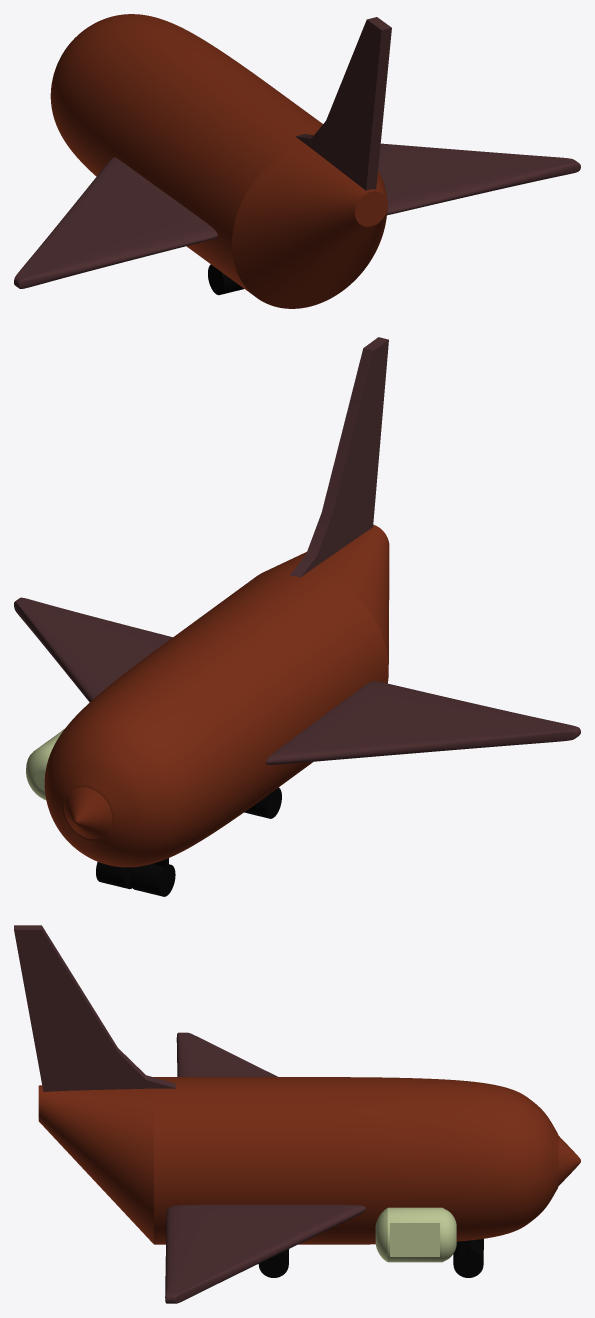
File: Airliner.fbx
3 renders of one model, top to bottom at view 1: azimuth 30°, elevation 25°; view 2: azimuth 150°, elevation 25°; view 3: azimuth 270°, elevation 25°, orthographic. The views are drawn at different scales.
Parts seen in each view (by area): view 1: Airplane_Body, Wing, Wing_2, Top_Wing, Wheel.002; view 2: Airplane_Body, Wing, Top_Wing, Wing_2, Airplane_Body_Nose, Wheel.001, Engine, Wheel.003; view 3: Airplane_Body, Wing_2, Top_Wing, Top_Wing_Broken_Pannel, Wing, Engine, Engine_Broken_Pannel, Wheel.003, Airplane_Body_Nose.
Part boxes in pixels (bbox=[...]): Airplane_Body: bbox=[50, 14, 387, 308]; Wing: bbox=[14, 157, 217, 288]; Wing_2: bbox=[378, 143, 580, 215]; Top_Wing: bbox=[295, 17, 391, 190]; Wheel.002: bbox=[208, 264, 243, 295]; Airplane_Body: bbox=[44, 524, 389, 867]; Wing: bbox=[266, 681, 580, 764]; Top_Wing: bbox=[290, 337, 388, 577]; Wing_2: bbox=[14, 597, 172, 702]; Airplane_Body_Nose: bbox=[64, 787, 112, 839]; Wheel.001: bbox=[130, 858, 175, 896]; Engine: bbox=[26, 729, 64, 799]; Wheel.003: bbox=[96, 862, 132, 889]; Airplane_Body: bbox=[38, 1077, 558, 1244]; Wing_2: bbox=[165, 1204, 366, 1303]; Top_Wing: bbox=[14, 925, 176, 1091]; Top_Wing_Broken_Pannel: bbox=[21, 950, 109, 1079]; Wing: bbox=[176, 1032, 277, 1076]; Engine: bbox=[375, 1207, 456, 1262]; Engine_Broken_Pannel: bbox=[390, 1223, 439, 1256]; Wheel.003: bbox=[453, 1240, 483, 1277]; Airplane_Body_Nose: bbox=[558, 1135, 580, 1185].
Bounding box in the file's own units: 1255 × 776 × 1185.
